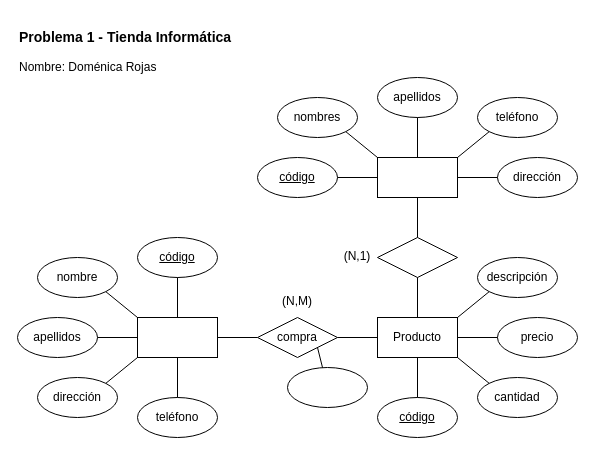
Some shapes in this 595 by 455 pixel diagram are drawn without their labels. Here are the shapes that lost their labels. From the top down, the centre of each, then its label:
At pixel 417 177: "Proveedor".
At pixel 417 257: "suministra".
At pixel 177 337: "Cliente".
At pixel 327 387: "fecha".
